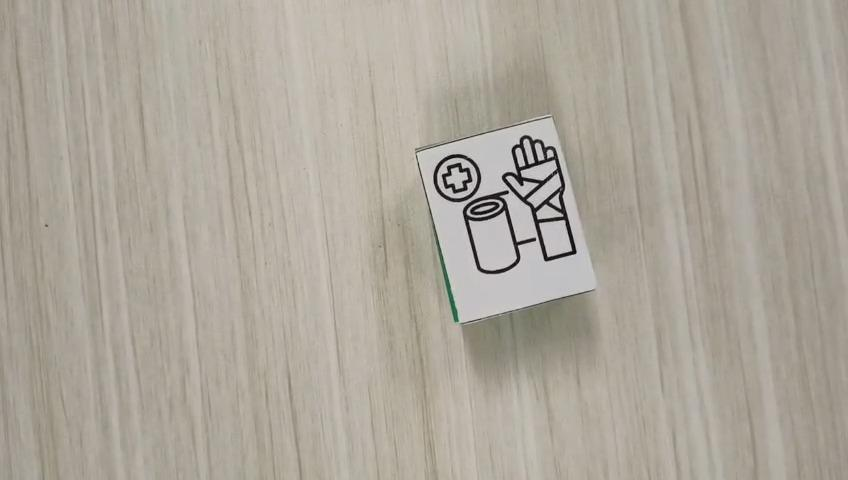Bandages: (415, 115, 599, 325)
